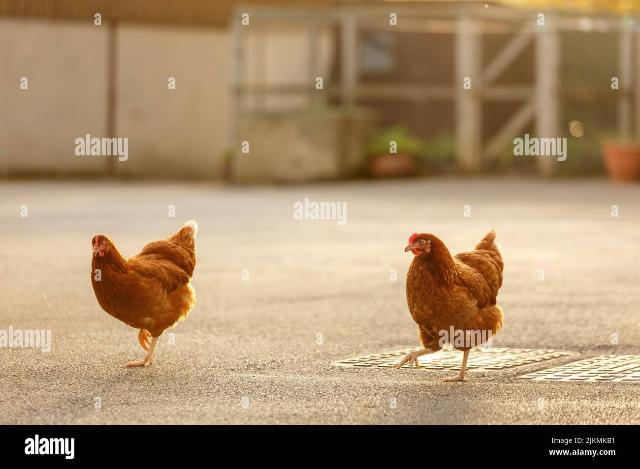Chicken: (394, 228, 505, 383), (90, 220, 197, 367)
